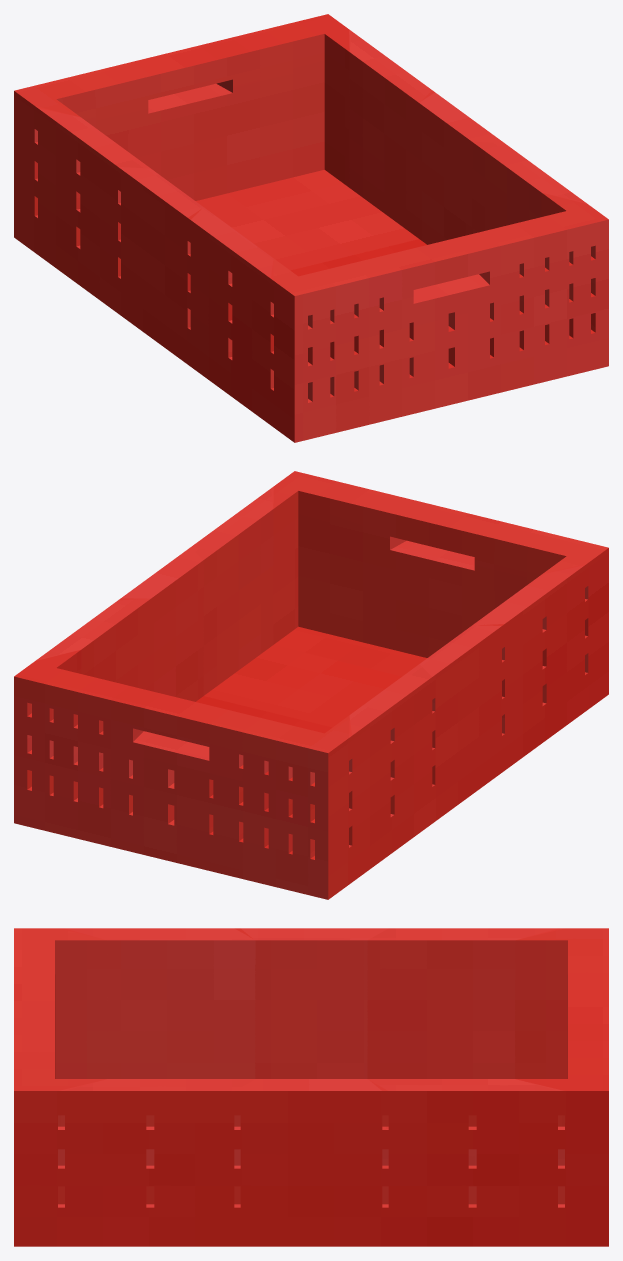
Rendered from Canasto.fbx.
3 views of the same model, one above another, from view 1: azimuth 30°, elevation 25°; view 2: azimuth 150°, elevation 25°; view 3: azimuth 270°, elevation 25° (orthographic). The views are drawn at different scales.
Visible parts, largest first — view 1: Canasto; view 2: Canasto; view 3: Canasto.
Part boxes in pixels (x1=…): Canasto: x1=14, y1=14, x2=608, y2=442; Canasto: x1=14, y1=471, x2=608, y2=899; Canasto: x1=14, y1=928, x2=608, y2=1246.
Size of the model in its own units: 2.82 by 1.26 by 4.36.
